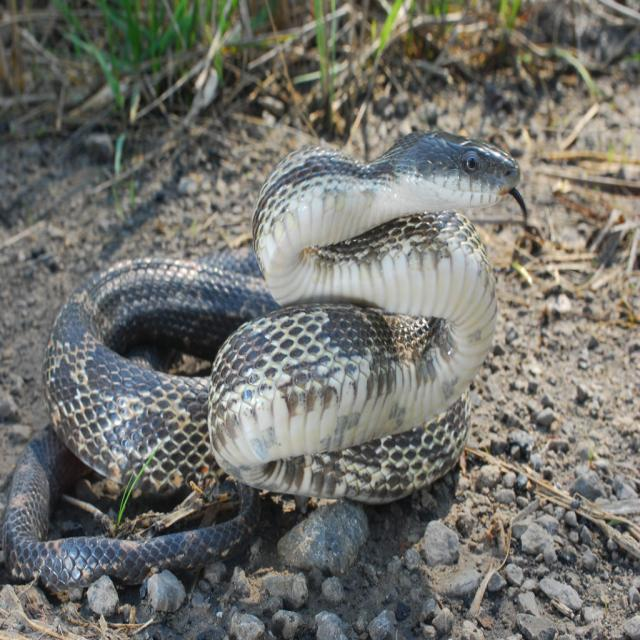Snake: (1, 127, 526, 593)
